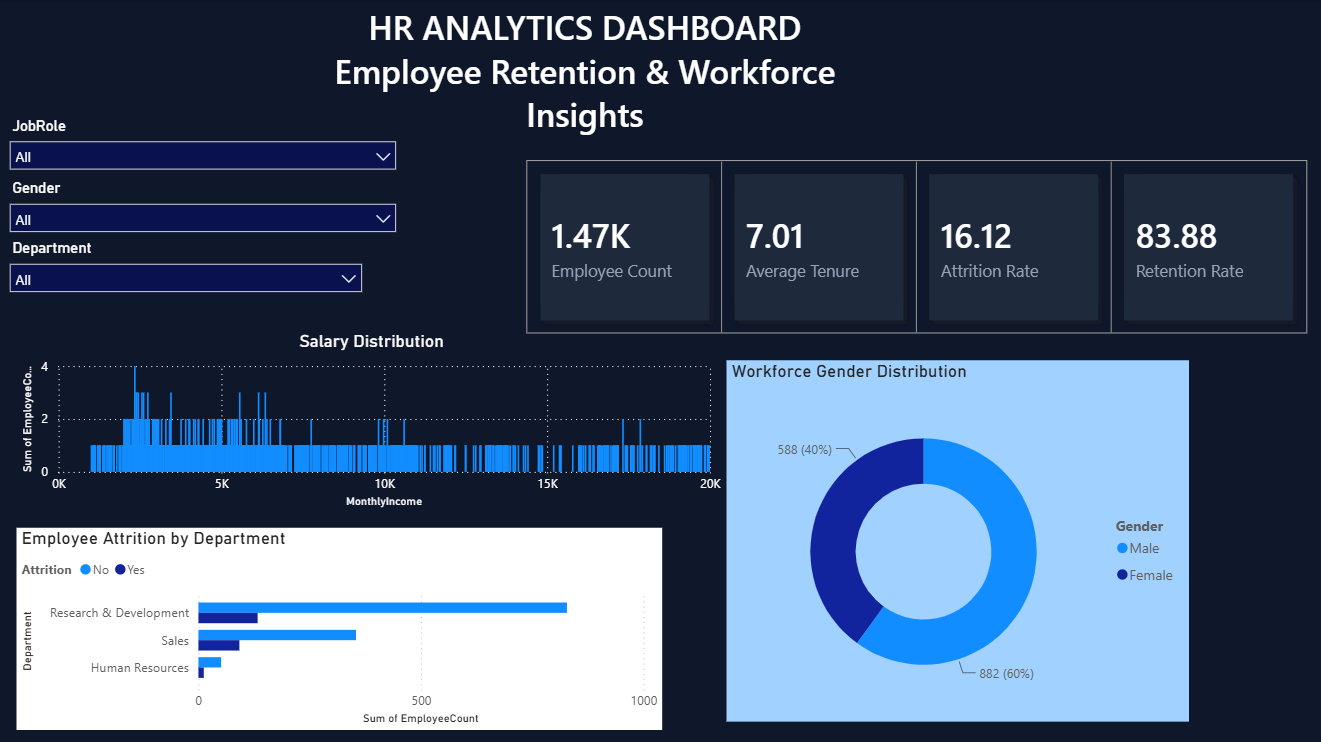

Layout of this report page (visuals, bound fields, positions):
{"tool":"powerbi","page":{"name":"Page 1","canvas":[1280,720],"ordinal":0},"visuals":[{"type":"cardVisual","fields":{"Data":["WA_Fn-UseC_-HR-Employee-Attrition.Employee Count","WA_Fn-UseC_-HR-Employee-Attrition.Average Tenure","WA_Fn-UseC_-HR-Employee-Attrition.Attrition Rate","WA_Fn-UseC_-HR-Employee-Attrition.Retention Rate"]},"box":[492.2,138.7,787.8,201.5],"z":0},{"type":"clusteredBarChart","title":"Employee Attrition by Department","fields":{"Y":["Sum(WA_Fn-UseC_-HR-Employee-Attrition.EmployeeCount)"],"Series":["WA_Fn-UseC_-HR-Employee-Attrition.Attrition"],"Category":["WA_Fn-UseC_-HR-Employee-Attrition.Department"]},"box":[16.7,510,623.3,195.6],"z":1000},{"type":"textbox","box":[278,0,576,166],"z":2000},{"type":"clusteredColumnChart","title":"Salary Distribution","fields":{"Category":["WA_Fn-UseC_-HR-Employee-Attrition.MonthlyIncome"],"Y":["Sum(WA_Fn-UseC_-HR-Employee-Attrition.EmployeeCount)"]},"box":[16.7,320,685.6,176.7],"z":3000},{"type":"donutChart","title":"Workforce Gender Distribution","fields":{"Y":["Sum(WA_Fn-UseC_-HR-Employee-Attrition.EmployeeCount)"],"Category":["WA_Fn-UseC_-HR-Employee-Attrition.Gender"]},"box":[702.2,348.9,446.7,348.9],"z":4000},{"type":"slicer","fields":{"Values":["WA_Fn-UseC_-HR-Employee-Attrition.Department"]},"box":[0,226.7,360,57.8],"z":5000},{"type":"slicer","fields":{"Values":["WA_Fn-UseC_-HR-Employee-Attrition.JobRole"]},"box":[0,108.9,393.3,70],"z":6000},{"type":"slicer","fields":{"Values":["WA_Fn-UseC_-HR-Employee-Attrition.Gender"]},"box":[0,168.9,393.3,71.1],"z":7000}]}

Visuals, with their boxes in screenshot pixels (x1, y1, x2, y2), scaled from the page's 1280x720 canvas onto the 1321x742 screenshot:
cardVisual - WA_Fn-UseC_-HR-Employee-Attrition.Employee Count x WA_Fn-UseC_-HR-Employee-Attrition.Average Tenure: (508,143,1320,351)
"Employee Attrition by Department" clusteredBarChart: (17,526,660,727)
textbox: (287,0,881,171)
"Salary Distribution" clusteredColumnChart: (17,330,725,512)
"Workforce Gender Distribution" donutChart: (725,360,1186,719)
slicer - WA_Fn-UseC_-HR-Employee-Attrition.Department: (0,234,372,293)
slicer - WA_Fn-UseC_-HR-Employee-Attrition.JobRole: (0,112,406,184)
slicer - WA_Fn-UseC_-HR-Employee-Attrition.Gender: (0,174,406,247)
